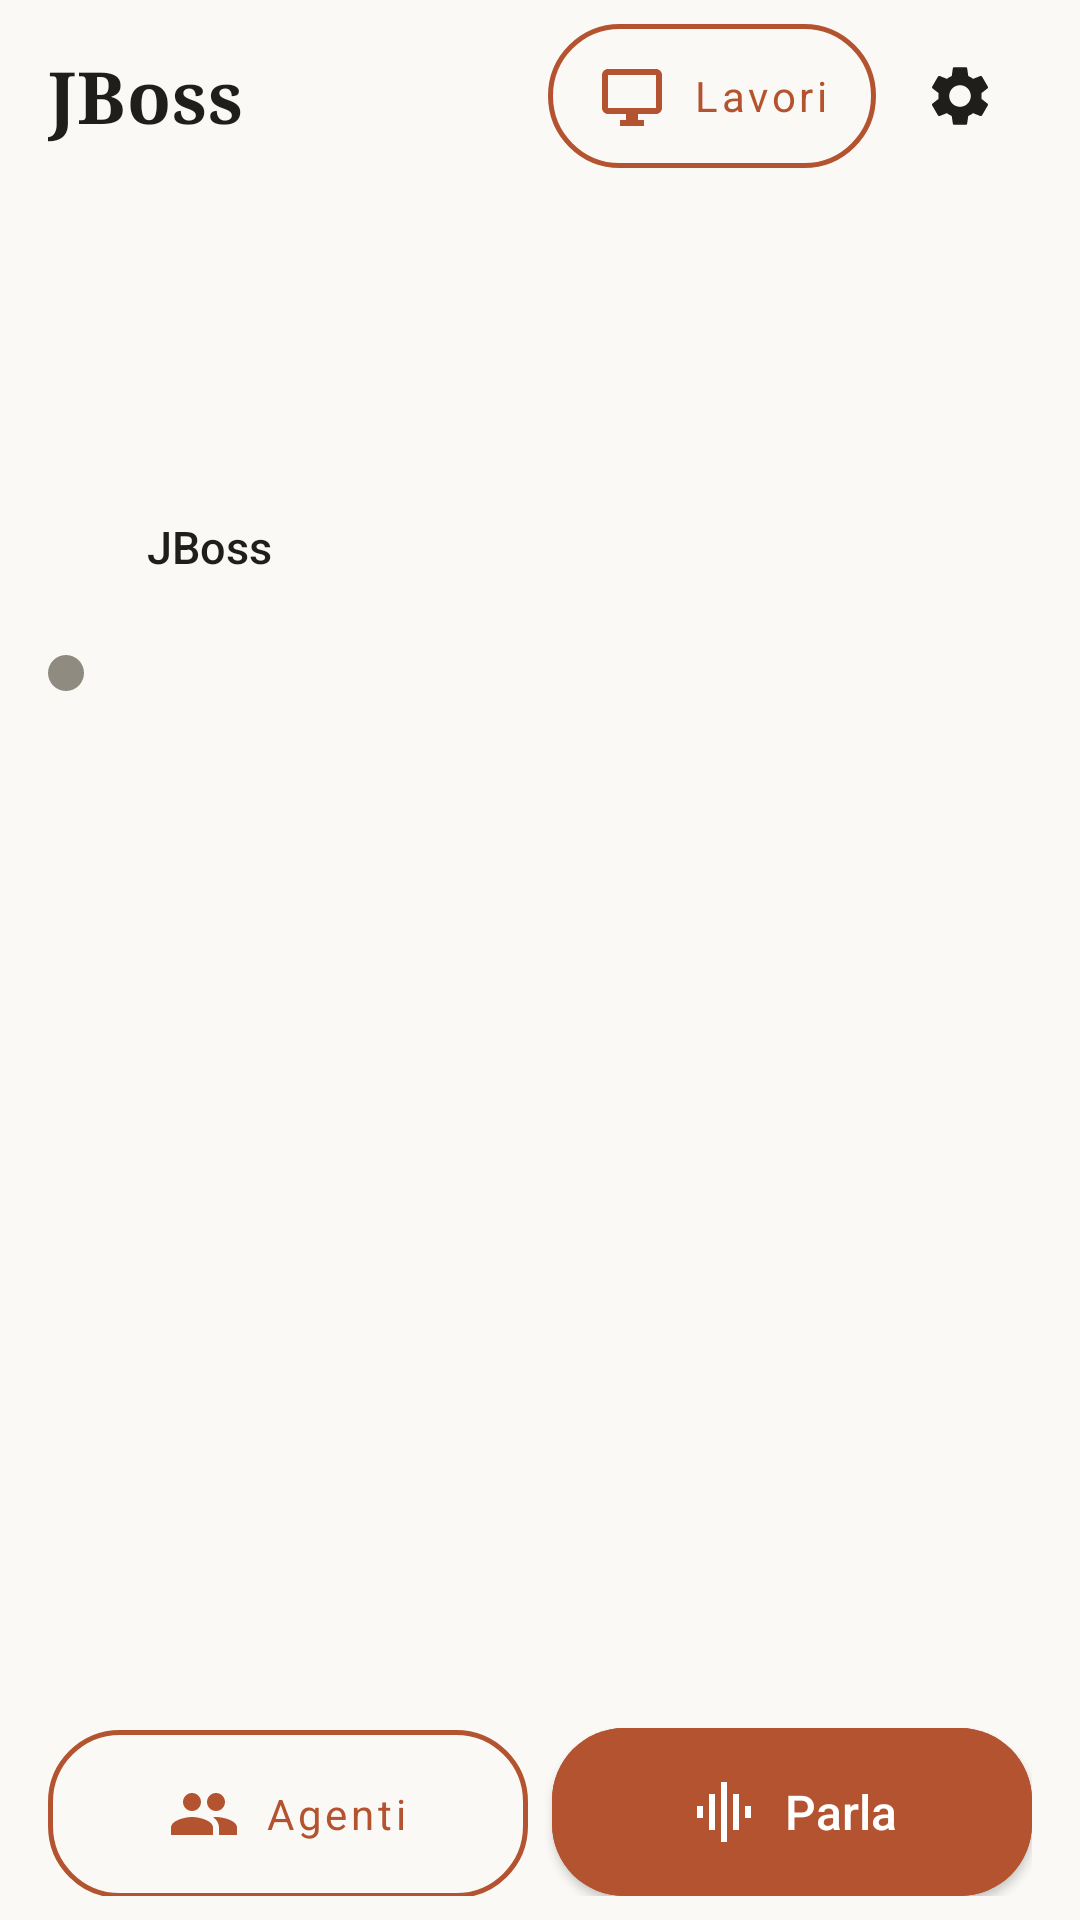

Icons on this 1080px x 1920px Android screen, each with the point to tap as (x,y):
Impostazioni: (960,96)
